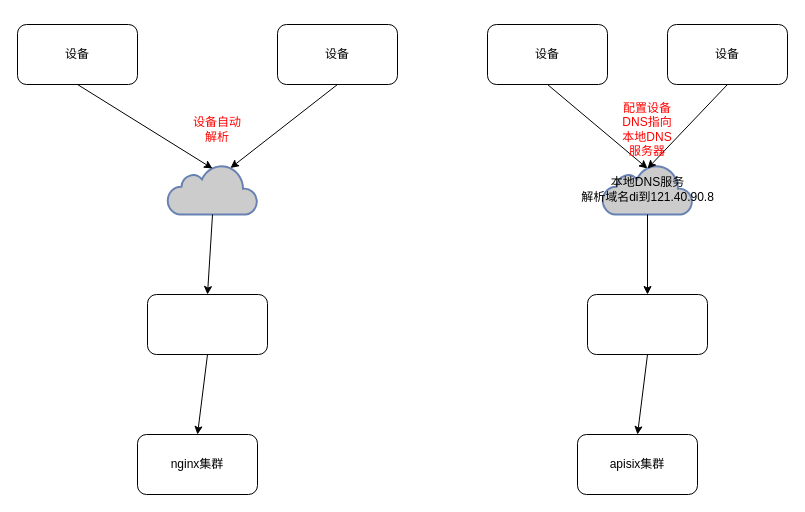
The diagram is 805 pixels wide and 512 high, and some of its shapes have lost their labels. Here are the shapes that lost their labels. From the top down, the box of each, then its label:
(166, 163, 258, 215): 电信DNS 解析域名di到118.178.157.151
(146, 294, 268, 354): 118.178.157.151就是阿里云slb地址
(586, 294, 708, 354): 121.40.90.8就是阿里云slb地址
